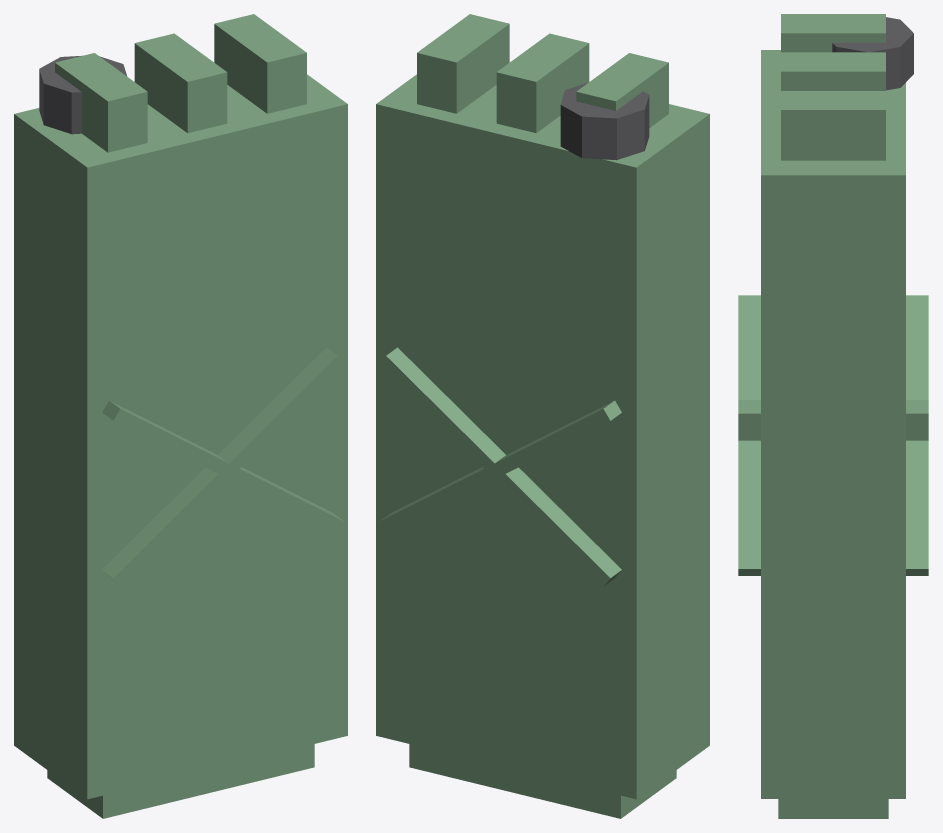
File: jerrycan.glb
The picture shows the model from 3 angles, left to right: view 1: azimuth 30°, elevation 25°; view 2: azimuth 150°, elevation 25°; view 3: azimuth 270°, elevation 25°; orthographic projection.
Parts seen in each view (by area): view 1: NC_jerrycan; view 2: NC_jerrycan; view 3: NC_jerrycan.
Part boxes in pixels (x1=…): NC_jerrycan: x1=14, y1=14, x2=347, y2=818; NC_jerrycan: x1=376, y1=14, x2=709, y2=818; NC_jerrycan: x1=738, y1=14, x2=928, y2=818.
Bounding box in the file's own units: 0.17 × 0.446 × 0.109.
